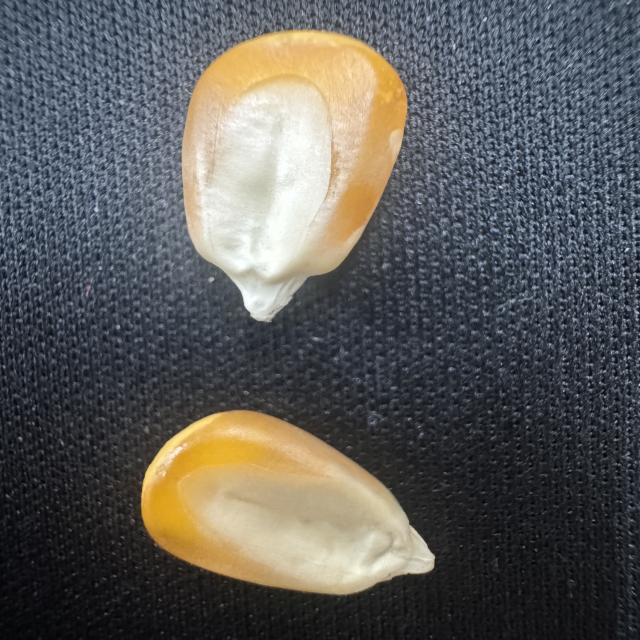Good-Seed: (177, 25, 414, 327), (136, 404, 440, 600)
